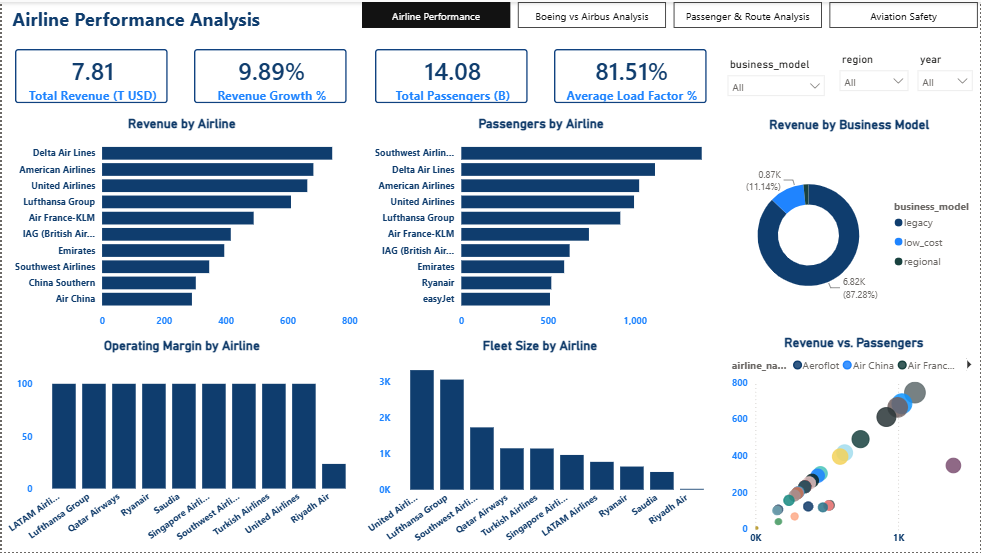

This screenshot's page, from the dashboard's own definition file:
{"tool":"powerbi","page":{"name":"Airline Performance","canvas":[1280,720],"ordinal":1},"visuals":[{"type":"cardVisual","fields":{"Data":["Measure Table.Total Revenue (T USD)"]},"box":[0,45,234.1,105],"z":0,"group":"g1"},{"type":"cardVisual","fields":{"Data":["Measure Table.Total Passengers (B)"]},"box":[471.2,45,234.1,105],"z":1000,"group":"g1"},{"type":"cardVisual","fields":{"Data":["Measure Table.Average Load Factor %"]},"box":[705.3,45,234.1,105],"z":2000,"group":"g1"},{"type":"cardVisual","fields":{"Data":["Measure Table.Revenue Growth %"]},"box":[234.1,45,234.1,105],"z":3000,"group":"g1"},{"type":"clusteredBarChart","title":"Revenue by Airline","fields":{"Y":["Measure Table.Total Revenue"],"Category":["Airline Financials.airline_name"]},"box":[0,149.5,470.9,285.9],"z":4000,"group":"g1"},{"type":"clusteredColumnChart","title":"Operating Margin by Airline","fields":{"Category":["Airline Financials.airline_name"],"Y":["Sum(Airline Financials.operating_margin_pct)"]},"box":[0,439.7,471.2,279.1],"z":5000,"group":"g1"},{"type":"clusteredBarChart","title":"Passengers by Airline","fields":{"Category":["Airline Financials.airline_name"],"Y":["Sum(Airline Financials.passengers_carried_m)"]},"box":[470.9,149.5,469,285.9],"z":6000,"group":"g1"},{"type":"clusteredColumnChart","title":"Fleet Size by Airline","fields":{"Category":["Airline Financials.airline_name"],"Y":["Sum(Airline Financials.fleet_size_est)"]},"box":[468.2,439.7,471.2,280.6],"z":7000,"group":"g1"},{"type":"donutChart","title":"Revenue by Business Model","fields":{"Category":["Airline Financials.business_model"],"Y":["Measure Table.Total Revenue"]},"box":[938.9,150.2,341.1,290.1],"z":8000,"group":"g1"},{"type":"scatterChart","title":"Revenue vs. Passengers","fields":{"X":["Sum(Airline Financials.passengers_carried_m)"],"Y":["Sum(Airline Financials.revenue_usd_bn)"],"Size":["Sum(Airline Financials.fleet_size_est)"],"Series":["Airline Financials.airline_name"]},"box":[950.5,435.9,329.5,284.3],"z":9000,"group":"g1"},{"type":"slicer","fields":{"Values":["Airline Financials.business_model"]},"box":[939.4,67.5,147.1,58.5],"z":10000,"group":"g1"},{"type":"slicer","fields":{"Values":["Airline Financials.region"]},"box":[1086.4,61.5,109.5,70.5],"z":11000,"group":"g1"},{"type":"slicer","fields":{"Values":["Airline Financials.year"]},"box":[1188.5,61.5,91.5,58.5],"z":12000,"group":"g1"},{"type":"textbox","box":[0,0,351.1,45],"z":13000,"group":"g1"},{"type":"pageNavigator","box":[471.2,0,808.8,34.5],"z":14000,"group":"g1"},{"type":"group","id":"g1","title":"Group 1","box":[0,0,1280,720.2],"z":14001}]}

Visuals, with their boxes in screenshot pixels (x1, y1, x2, y2), scaled from the page's 1280x720 canvas onto the 981x553 screenshot:
cardVisual - Measure Table.Total Revenue (T USD): [x1=0, y1=35, x2=179, y2=115]
cardVisual - Measure Table.Total Passengers (B): [x1=361, y1=35, x2=541, y2=115]
cardVisual - Measure Table.Average Load Factor %: [x1=541, y1=35, x2=720, y2=115]
cardVisual - Measure Table.Revenue Growth %: [x1=179, y1=35, x2=359, y2=115]
"Revenue by Airline" clusteredBarChart: [x1=0, y1=115, x2=361, y2=334]
"Operating Margin by Airline" clusteredColumnChart: [x1=0, y1=338, x2=361, y2=552]
"Passengers by Airline" clusteredBarChart: [x1=361, y1=115, x2=720, y2=334]
"Fleet Size by Airline" clusteredColumnChart: [x1=359, y1=338, x2=720, y2=552]
"Revenue by Business Model" donutChart: [x1=720, y1=115, x2=980, y2=338]
"Revenue vs. Passengers" scatterChart: [x1=728, y1=335, x2=980, y2=552]
slicer - Airline Financials.business_model: [x1=720, y1=52, x2=833, y2=97]
slicer - Airline Financials.region: [x1=833, y1=47, x2=917, y2=101]
slicer - Airline Financials.year: [x1=911, y1=47, x2=980, y2=92]
textbox: [x1=0, y1=0, x2=269, y2=35]
pageNavigator: [x1=361, y1=0, x2=980, y2=26]
"Group 1" group: [x1=0, y1=0, x2=980, y2=552]
